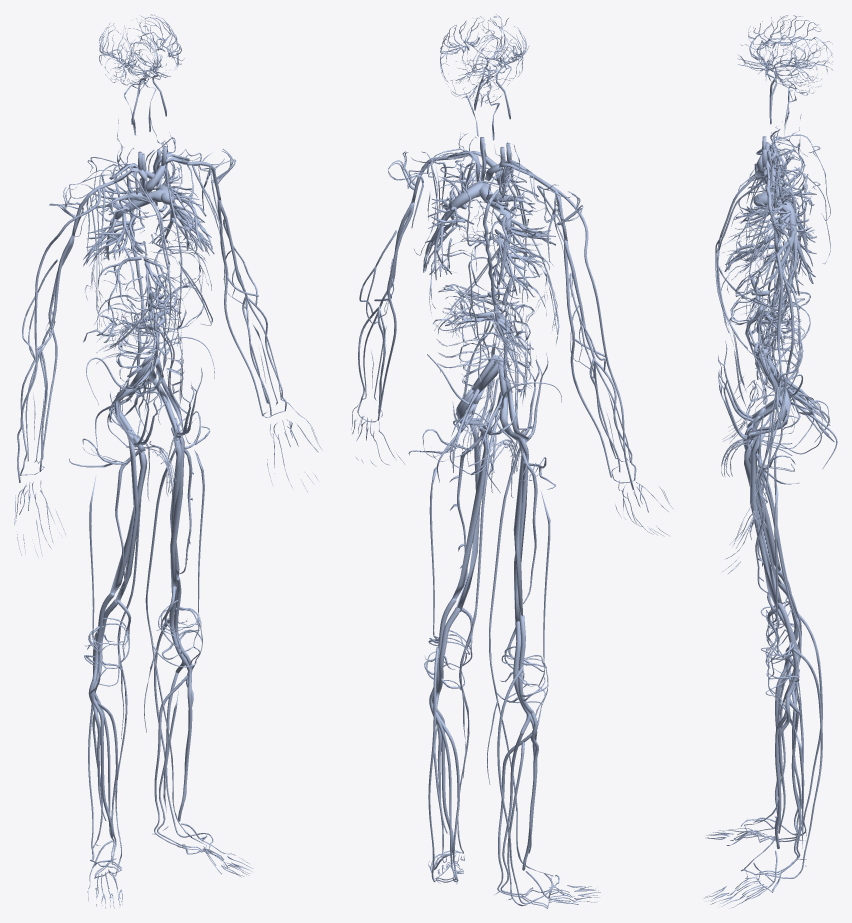
Rendered from context-vessels.glb.
3 renders of one model, left to right at view 1: azimuth 30°, elevation 25°; view 2: azimuth 150°, elevation 25°; view 3: azimuth 270°, elevation 25°, orthographic. The views are drawn at different scales.
Parts seen in each view (by area): view 1: context-vessels; view 2: context-vessels; view 3: context-vessels.
Part boxes in pixels (left/top/right/bottom): context-vessels: left=14, top=14, right=322, bottom=908; context-vessels: left=351, top=14, right=672, bottom=908; context-vessels: left=704, top=15, right=837, bottom=908.
Size of the model in its own units: 0.3774 by 0.9907 by 0.1422.
